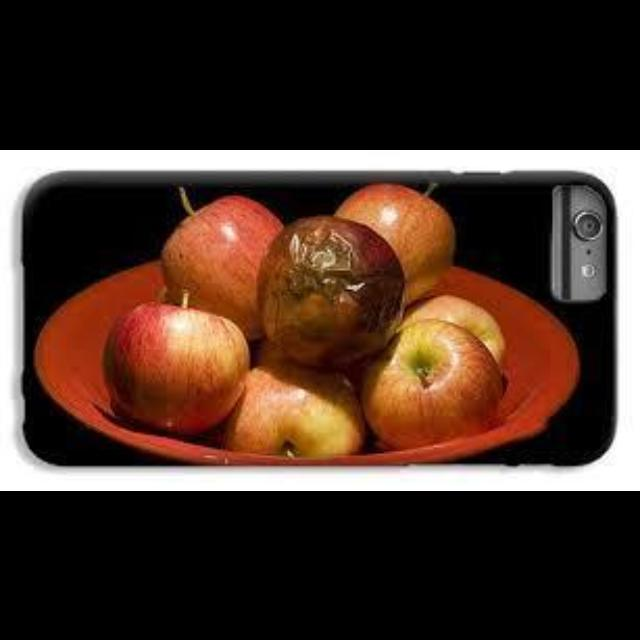apple: (256, 216, 402, 366), (104, 293, 248, 433), (361, 318, 507, 447), (161, 195, 281, 337), (223, 341, 365, 458), (336, 182, 452, 301)
rotten: (256, 216, 402, 366)
